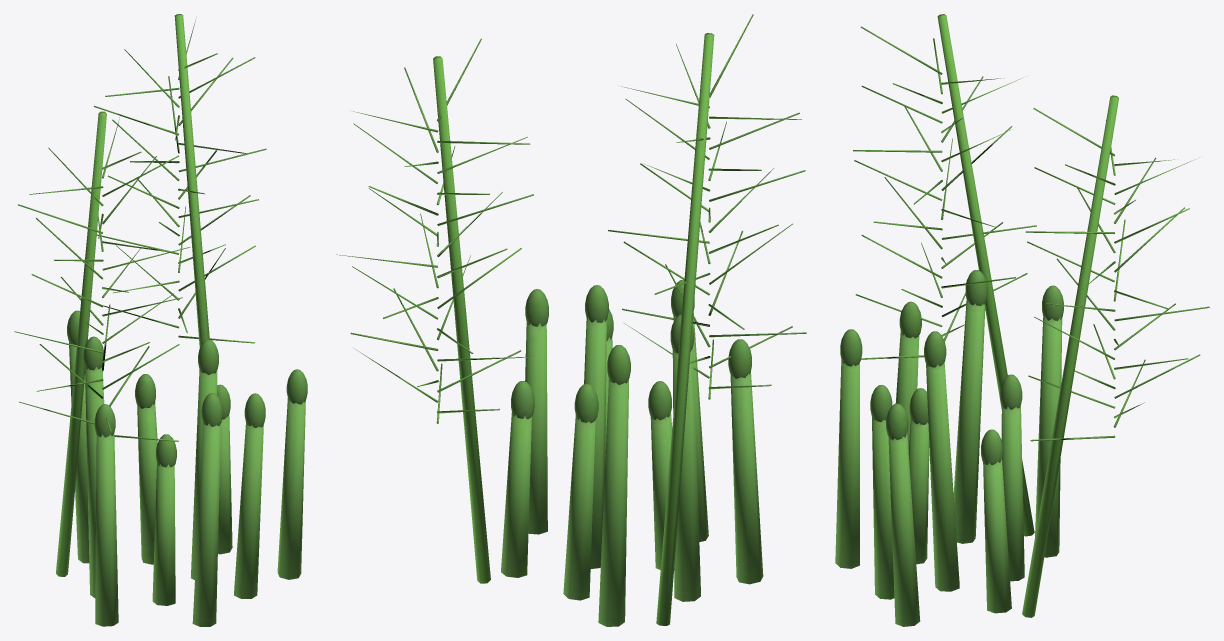
File: crop_asparagus.glb
3 views of the same model, side by side, from view 1: azimuth 30°, elevation 25°; view 2: azimuth 150°, elevation 25°; view 3: azimuth 270°, elevation 25° (orthographic). The views are drawn at different scales.
Visible parts, largest first — view 1: fruit, crop_asparagus; view 2: fruit, crop_asparagus; view 3: fruit, crop_asparagus.
Part boxes in pixels (x1,y1,x2,y2): fruit: [67, 310, 307, 626]; crop_asparagus: [14, 14, 266, 576]; fruit: [501, 280, 763, 626]; crop_asparagus: [336, 14, 806, 625]; fruit: [835, 270, 1063, 626]; crop_asparagus: [853, 14, 1209, 617].
Size of the model in its own units: 0.2354 by 0.357 by 0.2332.
1 material, 1 textured.
